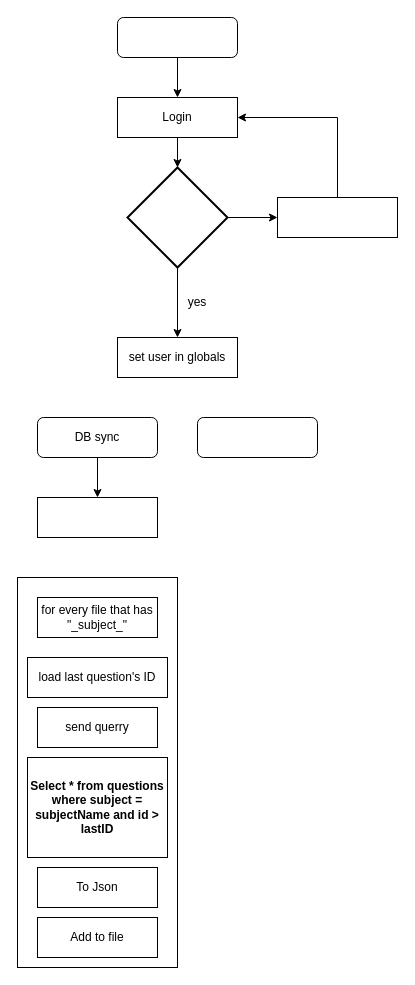
Some shapes in this 415 by 985 pixel diagram are drawn without their labels. Each missing label, with the centre of its shape:
"(no) show error" belongs at point 337,217.
"...In the config folder" belongs at point 97,517.
"if user in db" belongs at point 177,217.
"Main" belongs at point 257,437.
"Start" belongs at point 177,37.
